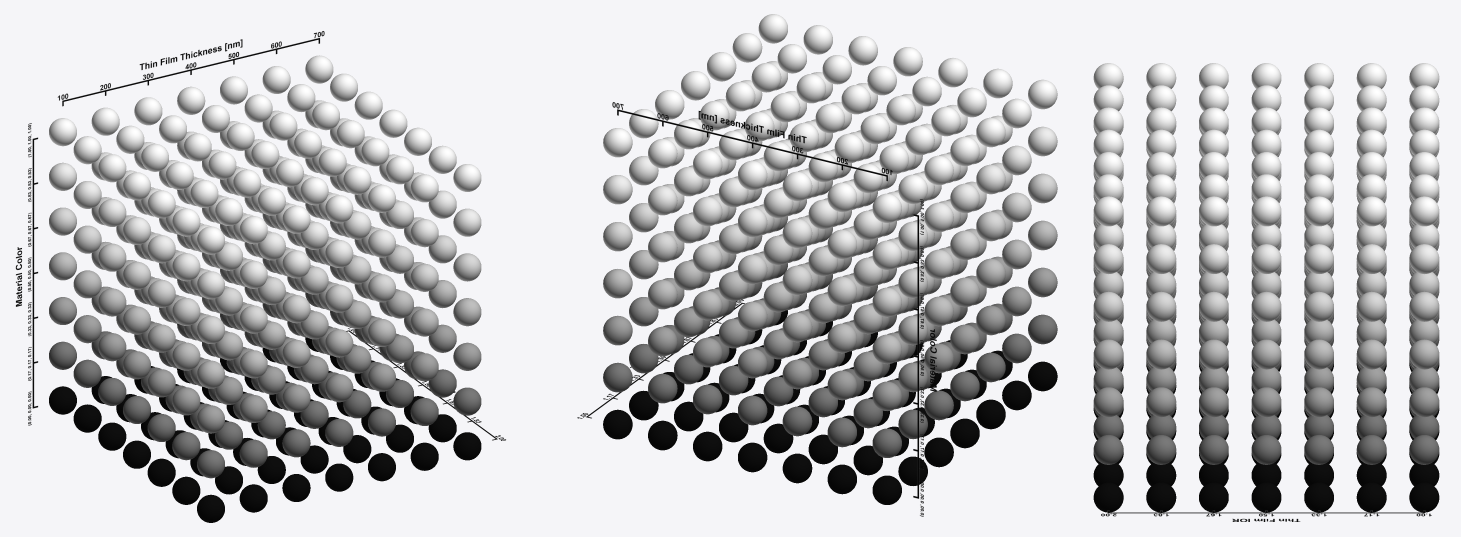
The model's file is IridescenceMetallicSpheres.glb.
The picture shows the model from 3 angles, left to right: view 1: azimuth 30°, elevation 25°; view 2: azimuth 150°, elevation 25°; view 3: azimuth 270°, elevation 25°; orthographic projection. The views are drawn at different scales.
Parts seen in each view (by area): view 1: IorPlane, ThicknessPlane, Sphere143, Sphere328, Sphere23, Sphere111, Sphere118, Sphere146, Sphere239, Sphere307, Sphere47, Sphere291 (+153 smaller); view 2: ThicknessPlane, IorPlane, Sphere112, Sphere119, Sphere126, Sphere133, Sphere105, Sphere98, Sphere140, Sphere18, Sphere25, Sphere32 (+153 smaller); view 3: ThinFilmIorPlane, Sphere318, Sphere339, Sphere297, Sphere315, Sphere321, Sphere316, Sphere320, Sphere336, Sphere337, Sphere341, Sphere342 (+122 smaller).
Part boxes in pixels (x1,y1,x2,y2): IorPlane: [15, 123, 38, 425]; ThicknessPlane: [57, 31, 324, 106]; Sphere143: [208, 151, 236, 179]; Sphere328: [453, 253, 481, 281]; Sphere23: [98, 288, 126, 316]; Sphere111: [282, 429, 310, 457]; Sphere118: [282, 384, 310, 412]; Sphere146: [282, 205, 310, 233]; Sphere239: [244, 94, 272, 122]; Sphere307: [453, 387, 481, 415]; Sphere47: [172, 208, 200, 236]; Sphere291: [361, 138, 389, 166]; ThicknessPlane: [612, 102, 892, 181]; IorPlane: [913, 199, 936, 516]; Sphere112: [782, 359, 812, 389]; Sphere119: [782, 312, 812, 342]; Sphere126: [782, 265, 812, 295]; Sphere133: [782, 218, 812, 248]; Sphere105: [782, 406, 812, 436]; Sphere98: [782, 453, 812, 483]; Sphere140: [782, 171, 812, 201]; Sphere18: [976, 305, 1005, 335]; Sphere25: [976, 258, 1005, 288]; Sphere32: [976, 211, 1005, 241]; ThinFilmIorPlane: [1101, 510, 1431, 521]; Sphere318: [1251, 339, 1281, 369]; Sphere339: [1251, 196, 1281, 226]; Sphere297: [1251, 482, 1281, 512]; Sphere315: [1409, 339, 1439, 369]; Sphere321: [1093, 339, 1123, 369]; Sphere316: [1356, 339, 1386, 369]; Sphere320: [1146, 339, 1176, 369]; Sphere336: [1409, 196, 1439, 226]; Sphere337: [1356, 196, 1386, 226]; Sphere341: [1146, 196, 1176, 226]; Sphere342: [1093, 196, 1123, 226].
Bounding box in the file's own units: 29 × 26.5 × 24.
Materials: 344 (1 with a texture image).
